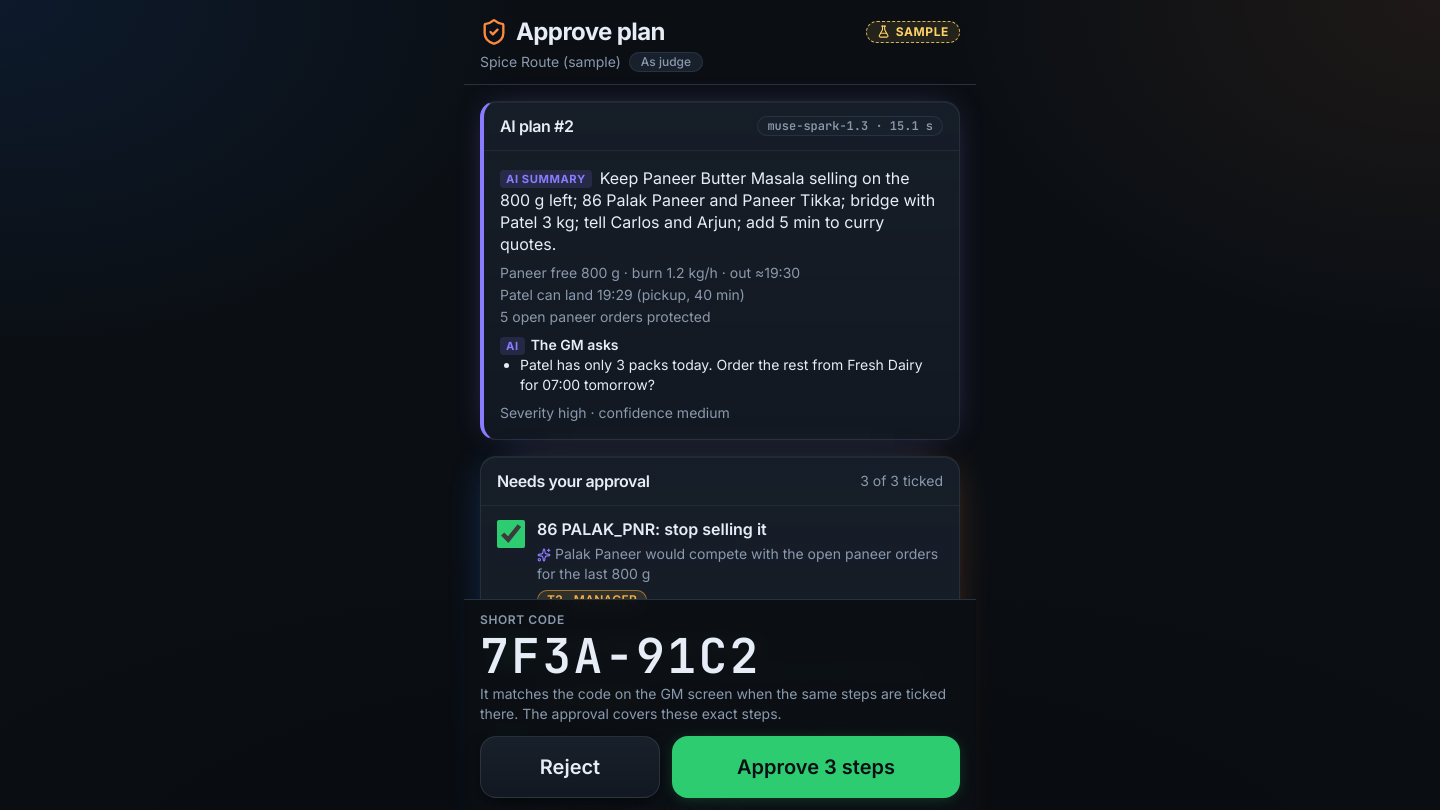
digest_mismatch_reloads_the_plan_and_needs_a_fresh_look
Click the button "Approve 3 steps": (816, 767) [672, 736, 960, 798]
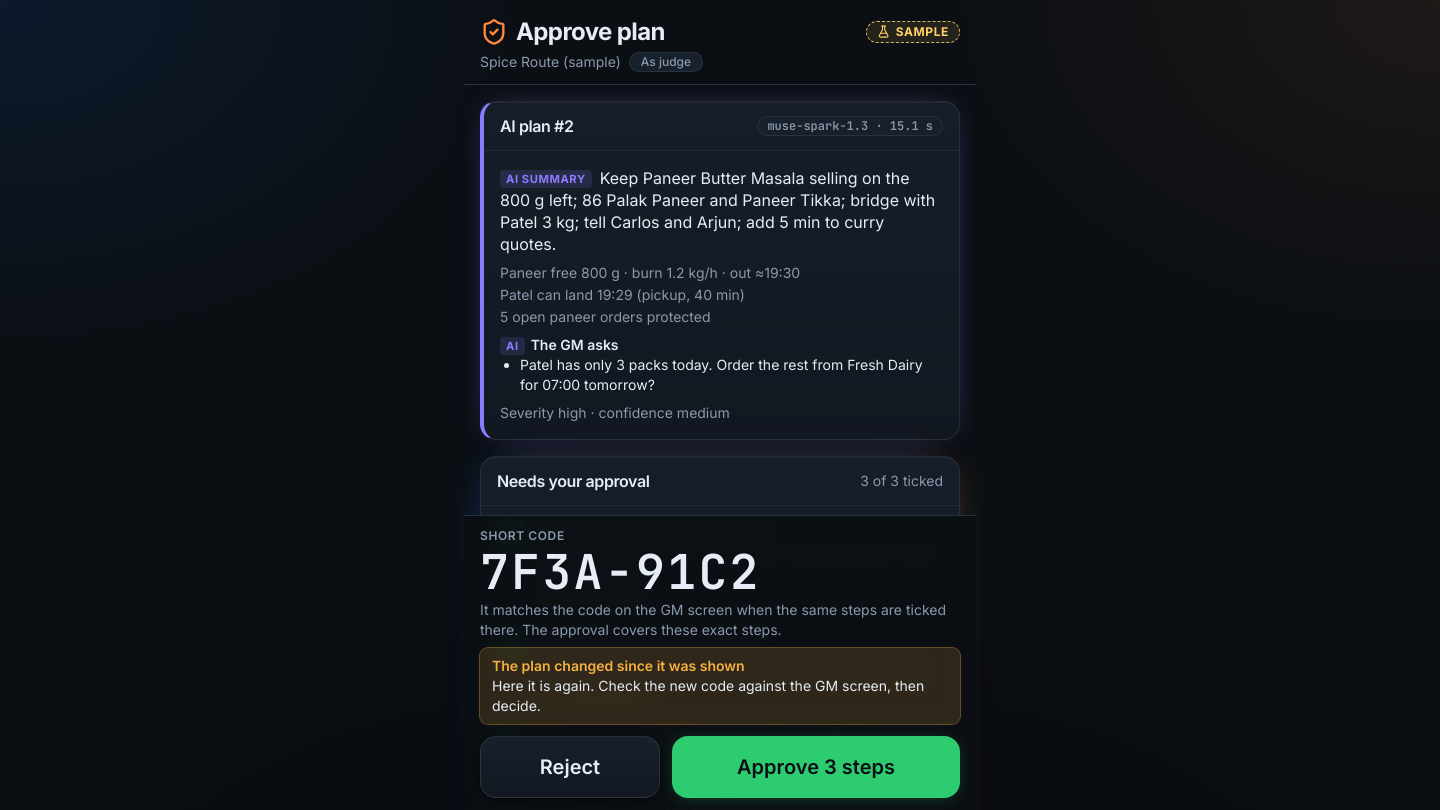
Expected: the message shows "The plan changed since it was shown", [492, 657, 745, 674]
Click the button "Approve 3 steps": (816, 767) [672, 736, 960, 798]
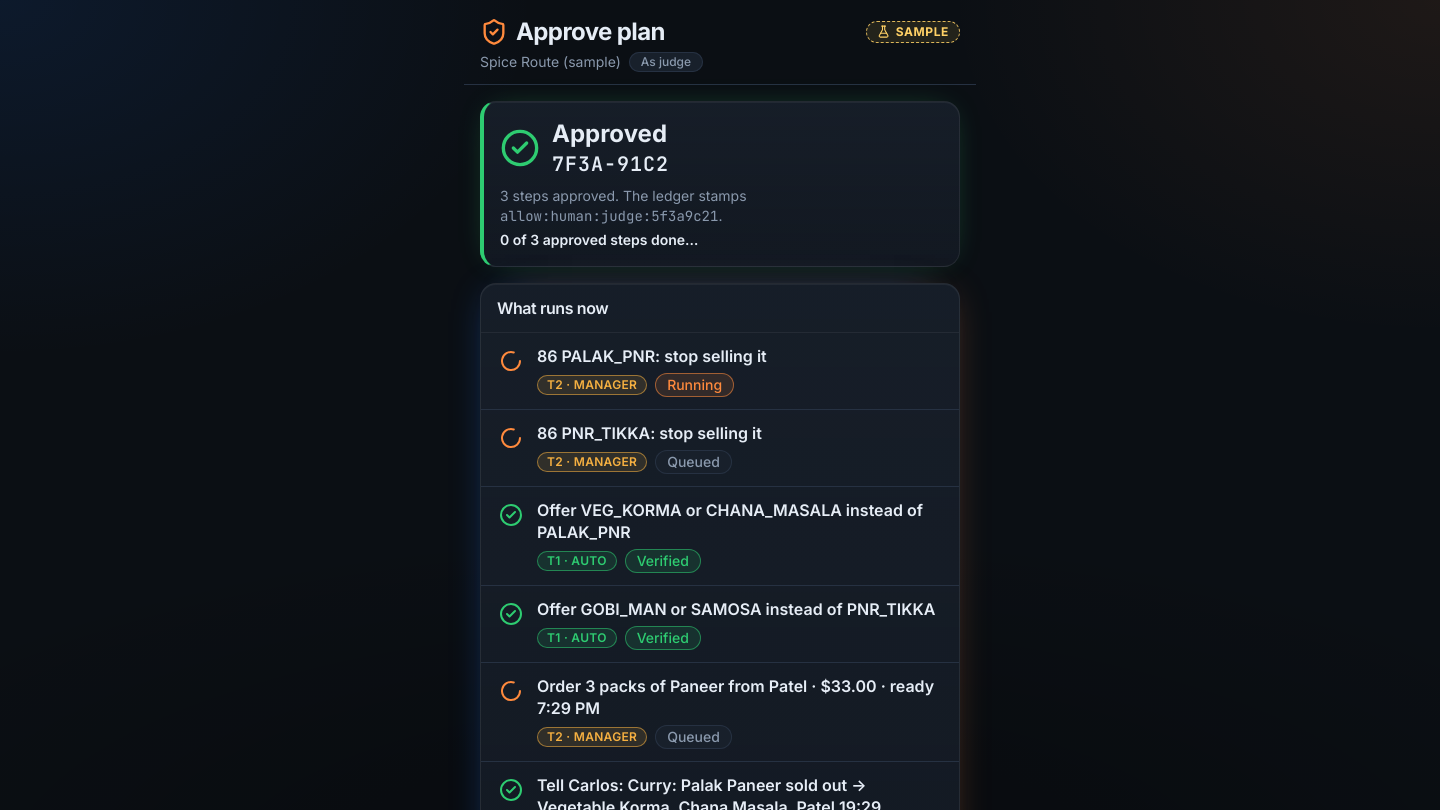
Expected: the message "Approved" is shown, [480, 101, 960, 267]
